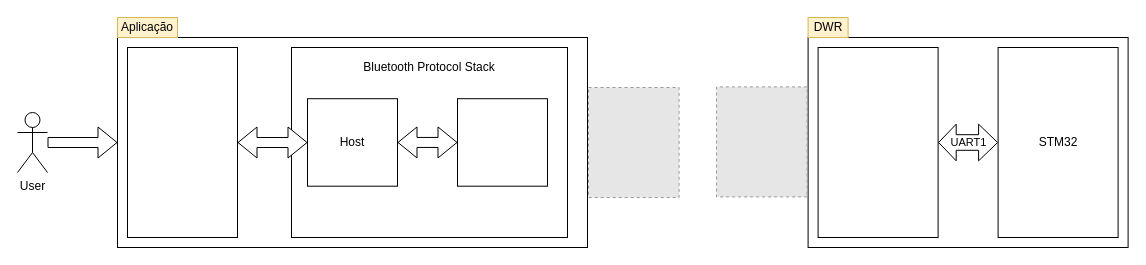
This 1146x265 diagram has some shape labels left out. Grey dashed boxes stand in for pictures. The shapes that lost their labels are listed below. From the top down, each one's box as (x1, y1, x2, y2) in pixels, then its label:
(126, 46, 238, 238): Interface
(456, 98, 548, 186): Controller
(817, 46, 938, 238): HC-05 Bluetooth Module
